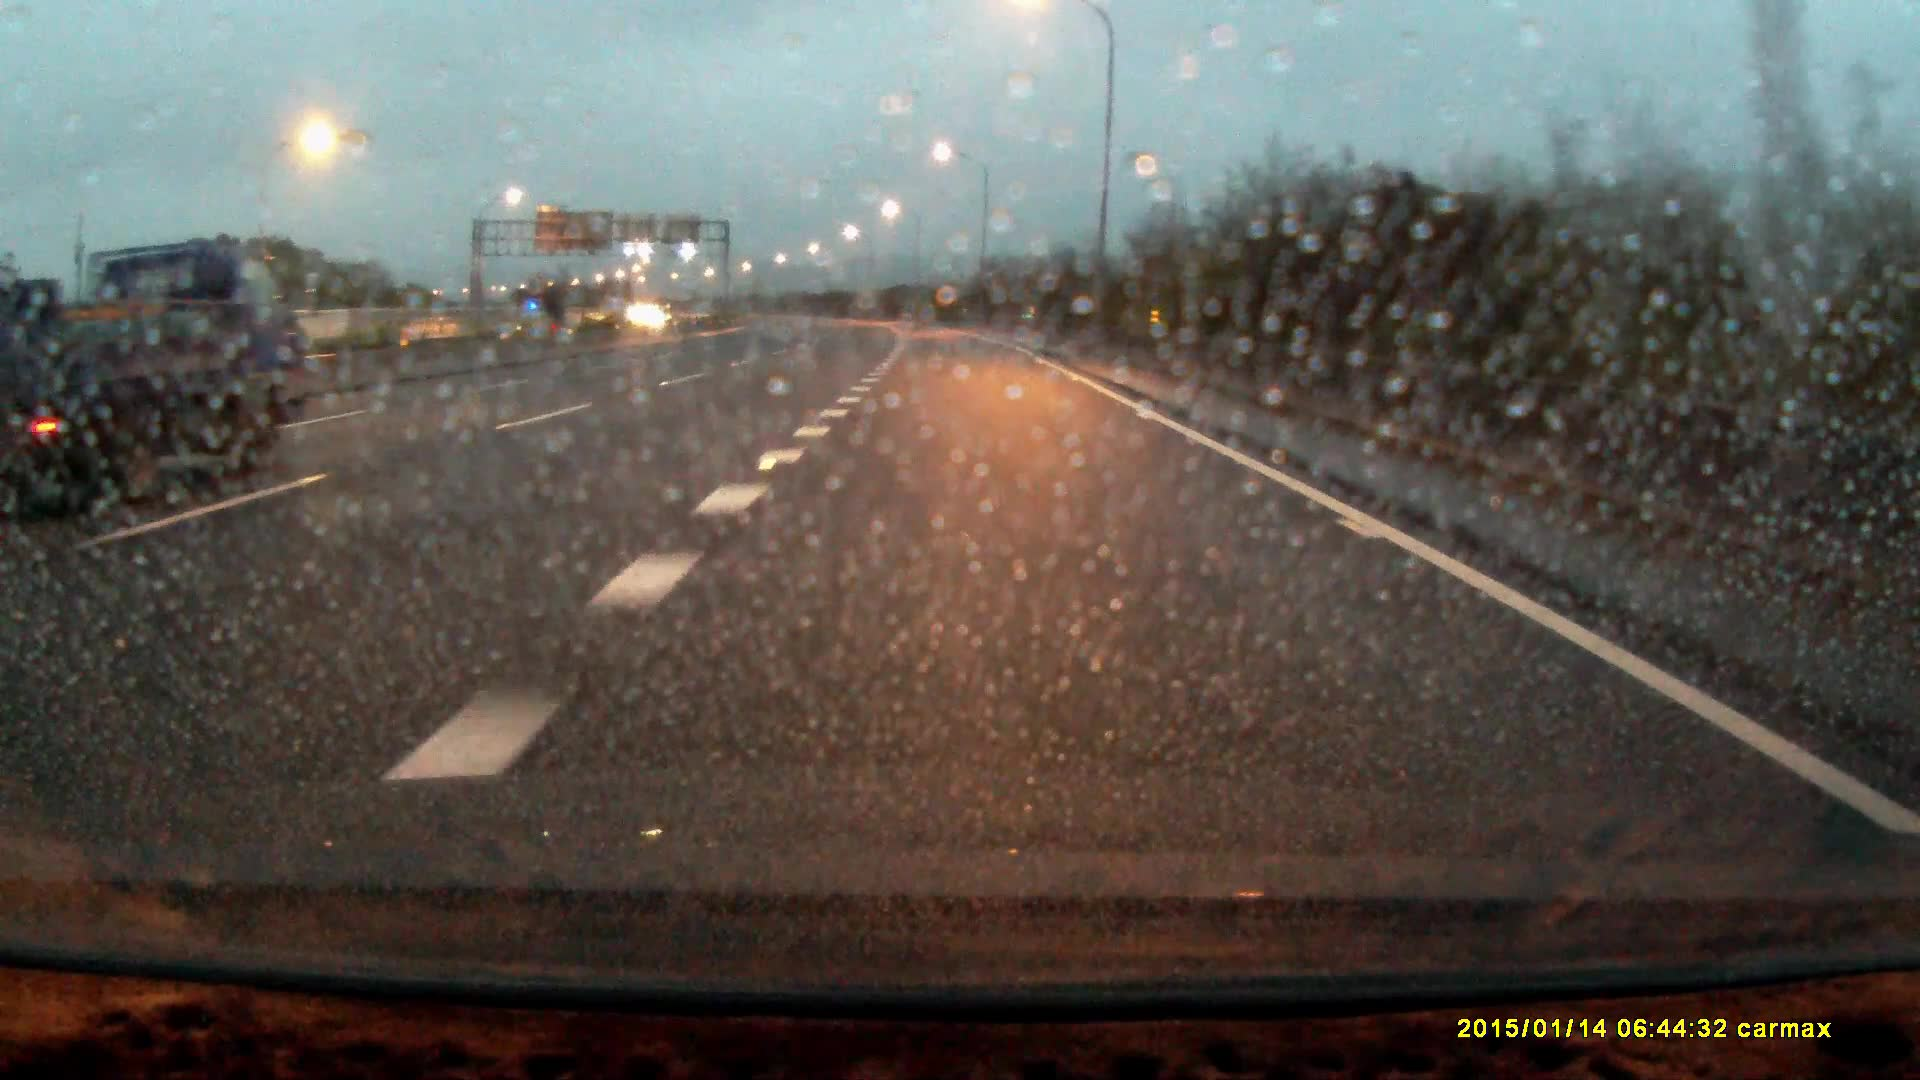vehicle: (1, 224, 357, 516)
